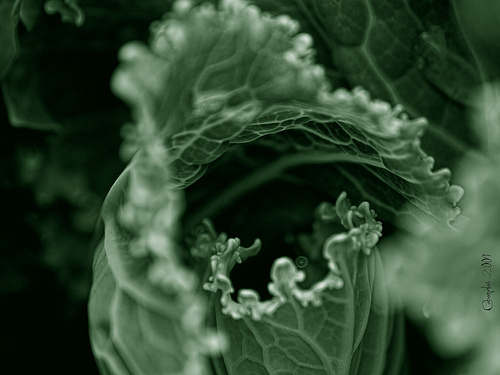cabbage: (85, 0, 466, 374)
